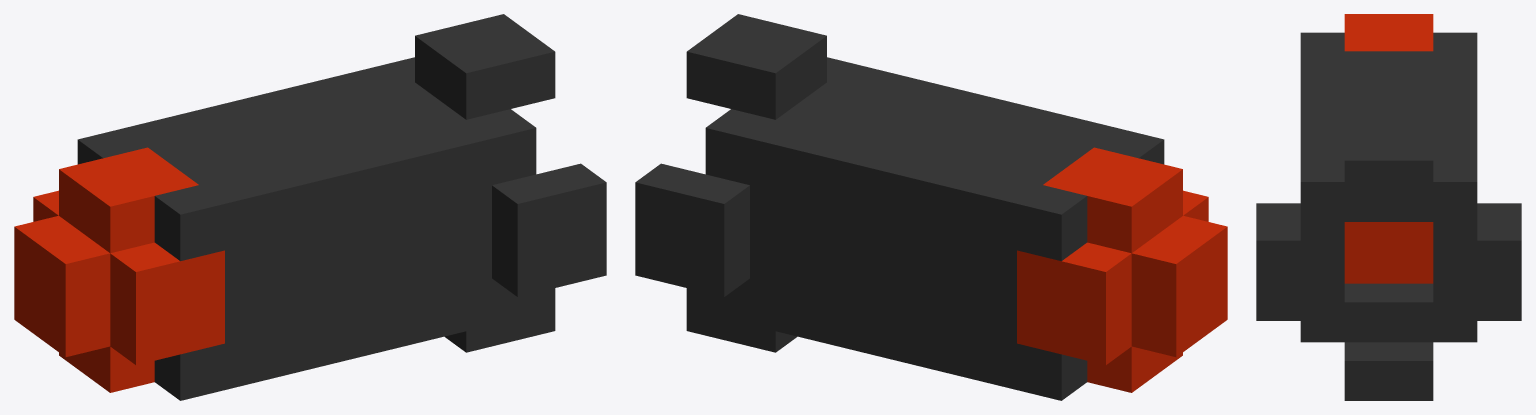
Rendered from Missile.fbx.
3 renders of one model, left to right at view 1: azimuth 30°, elevation 25°; view 2: azimuth 150°, elevation 25°; view 3: azimuth 270°, elevation 25°, orthographic. The views are drawn at different scales.
Parts seen in each view (by area): view 1: Matrix; view 2: Matrix; view 3: Matrix.
Part boxes in pixels (<box>): Matrix: <box>14,14,606,400</box>; Matrix: <box>635,14,1227,400</box>; Matrix: <box>1256,14,1521,400</box>.
Bounding box in the file's own units: 11 × 6 × 6.
1 material, 1 textured.
